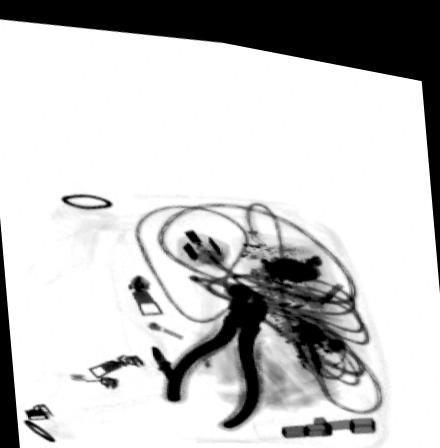Pliers: (158, 279, 268, 424)
